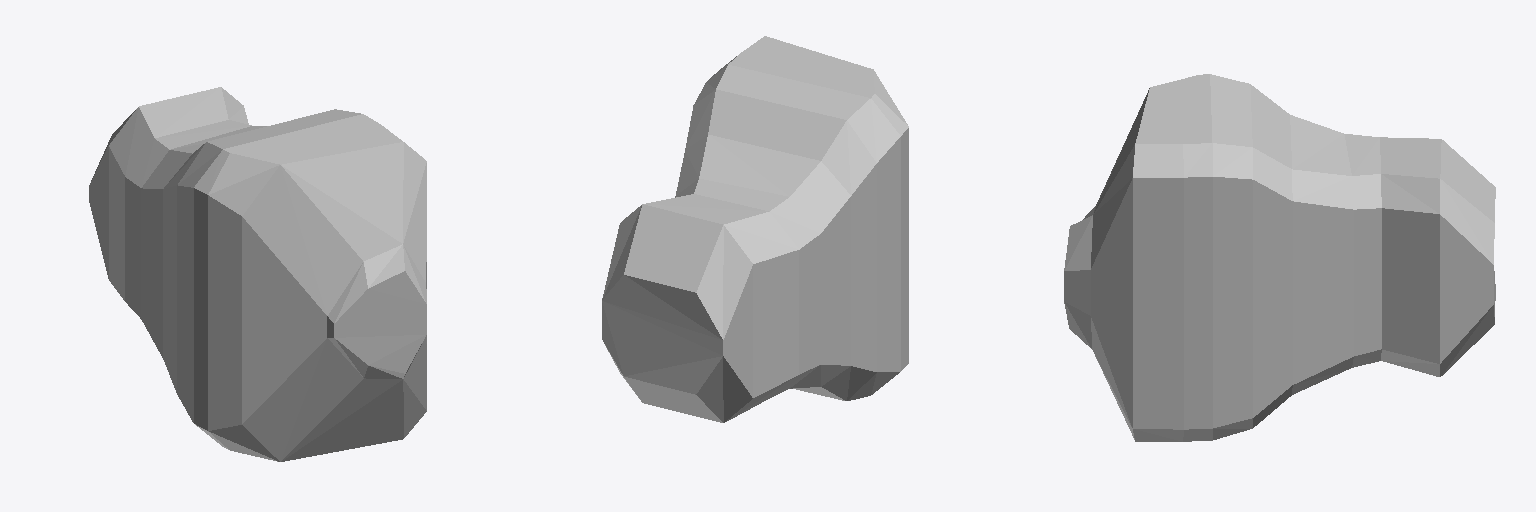
Rendered from Torso.obj.
3 views of the same model, side by side, from view 1: azimuth 30°, elevation 25°; view 2: azimuth 150°, elevation 25°; view 3: azimuth 270°, elevation 25° (orthographic).
Parts seen in each view (by area): view 1: Cube_Cube.002; view 2: Cube_Cube.002; view 3: Cube_Cube.002.
Boxes of the visible parts, x1,y1,x2,y2 form: Cube_Cube.002: [89, 87, 426, 461]; Cube_Cube.002: [602, 36, 908, 422]; Cube_Cube.002: [1064, 74, 1495, 441].
Size of the model in its own units: 1.37 by 2 by 2.63.